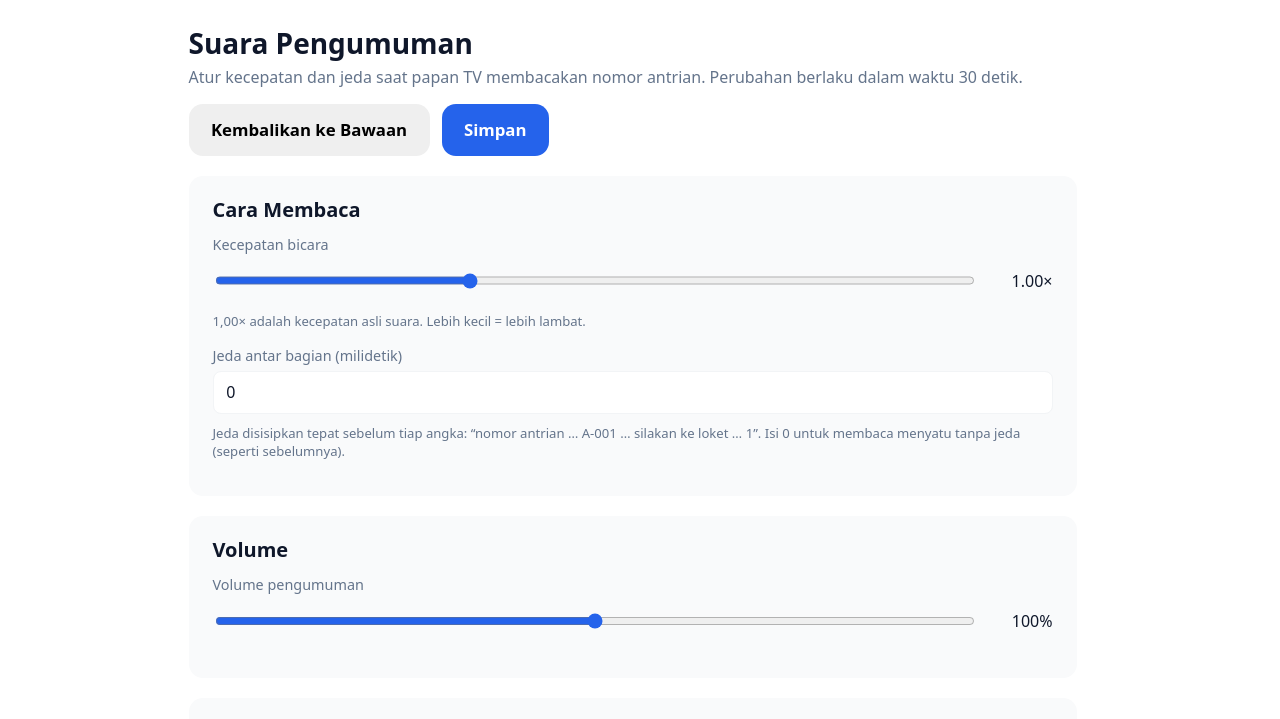
Test case: TtsConfigPage › surfaces a backend rejection with the load-bearing error prefix
Expected: the slider with test id "tts-speed" is shown, [214,261,974,300]
Click the button with test id "tts-save" at (495, 130), box [442,104,549,156]
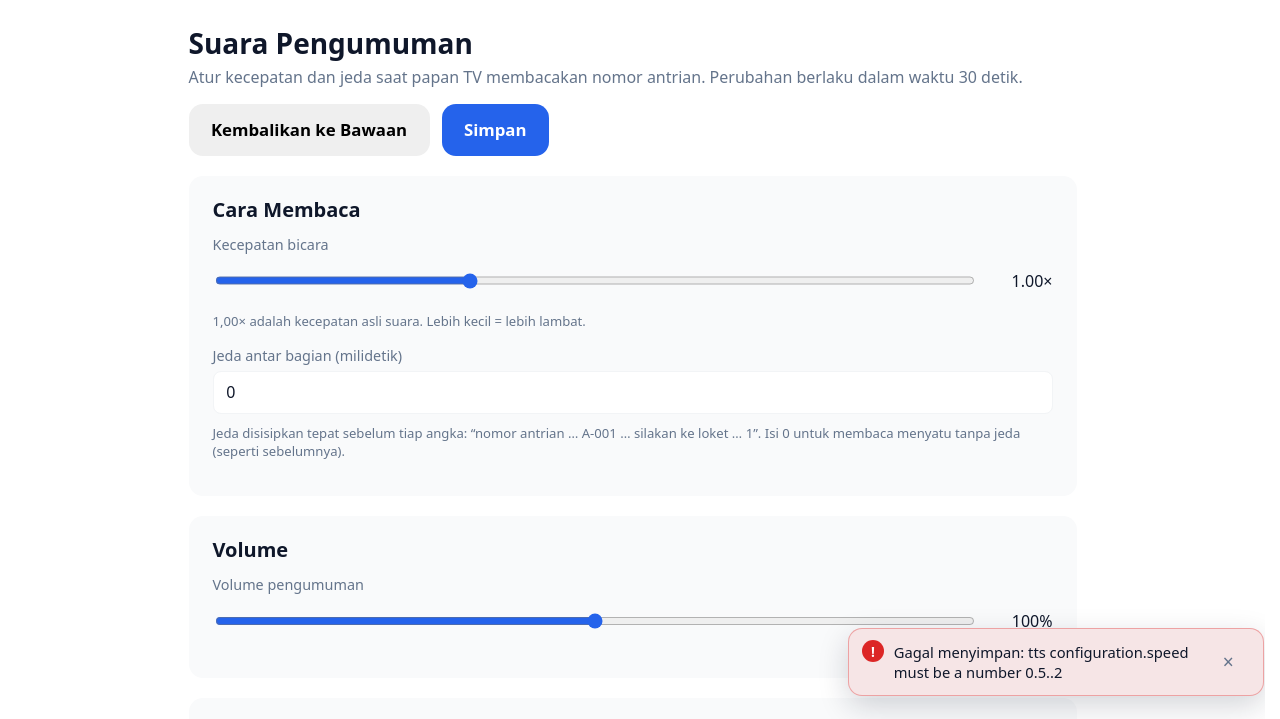
Result: the text "Gagal menyimpan: tts configuration.speed must be a number" is shown at [894,642,1189,682]
